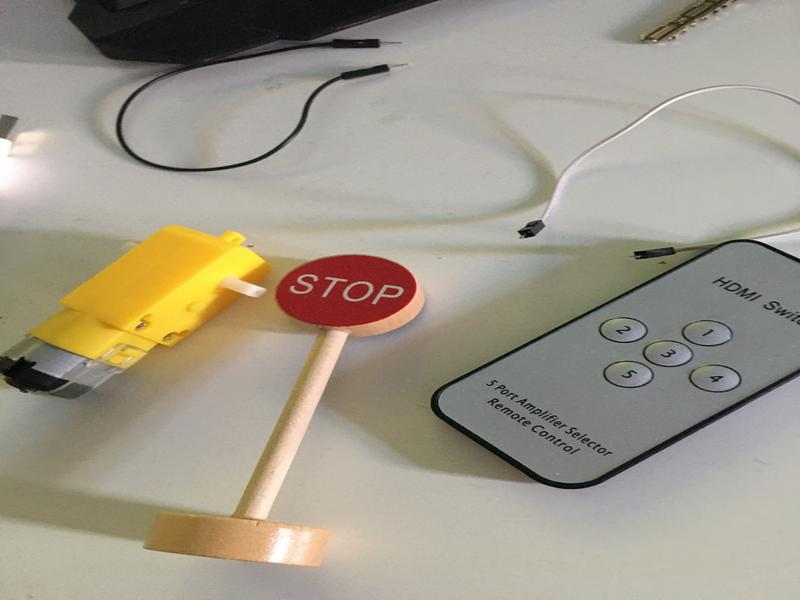Traffic_Sign_Stop: (277, 255, 417, 329)
